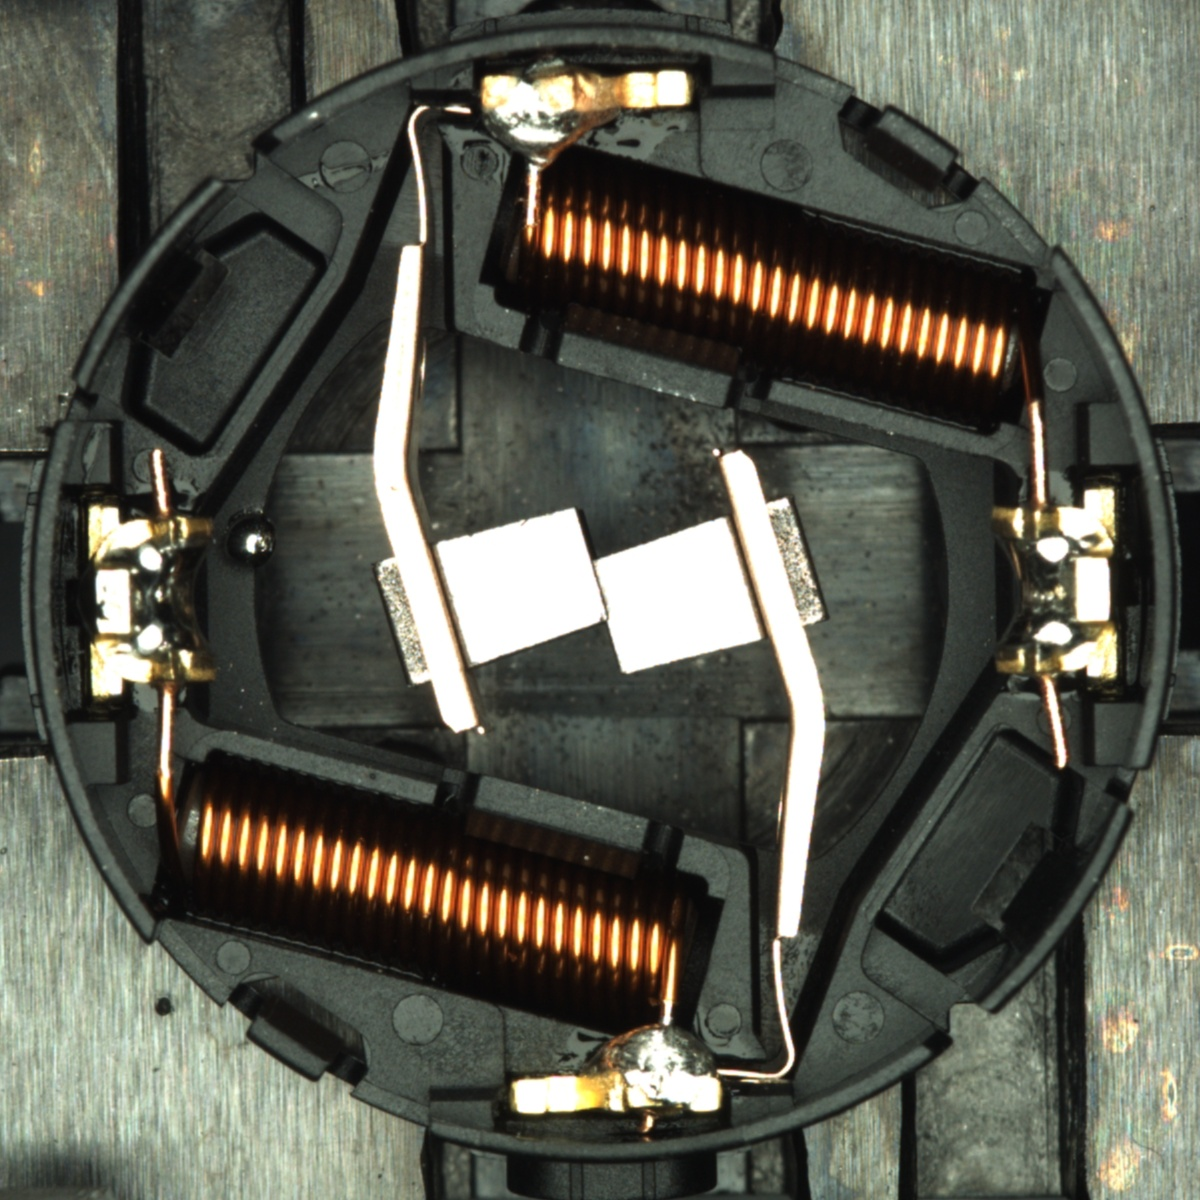1: (253, 30, 482, 255), (711, 927, 941, 1152)
2: (711, 30, 941, 255), (253, 927, 482, 1152)
3: (23, 255, 253, 479), (941, 703, 1169, 927)
4: (253, 255, 482, 479), (711, 703, 941, 927)
5: (482, 142, 711, 367), (482, 815, 711, 1040)
6: (711, 255, 941, 479), (253, 703, 482, 927)
7: (23, 703, 253, 927), (941, 255, 1169, 479)
cacbon: (398, 498, 795, 684)
chau_dien: (984, 488, 1124, 686), (82, 499, 219, 700)
hat_chi: (227, 516, 277, 566)
tay_choi: (479, 69, 696, 170), (510, 1019, 723, 1118)
thanh_de: (955, 787, 1142, 1031), (60, 165, 244, 405)
